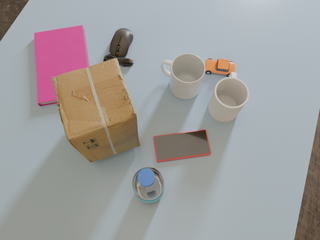book: (34, 25, 90, 106)
bottle: (133, 167, 164, 204)
box: (51, 58, 140, 162)
cup: (208, 72, 249, 122), (161, 54, 206, 99)
mouse: (104, 28, 133, 67)
phone: (153, 130, 211, 162)
toy_car: (205, 59, 236, 77)
